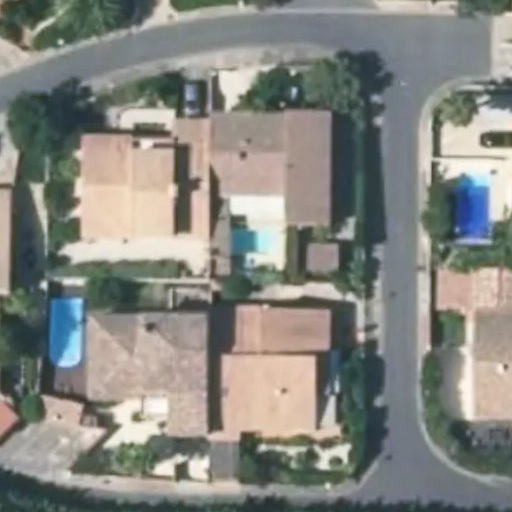pool: (451, 182, 493, 244), (48, 298, 84, 370), (220, 229, 273, 256)
